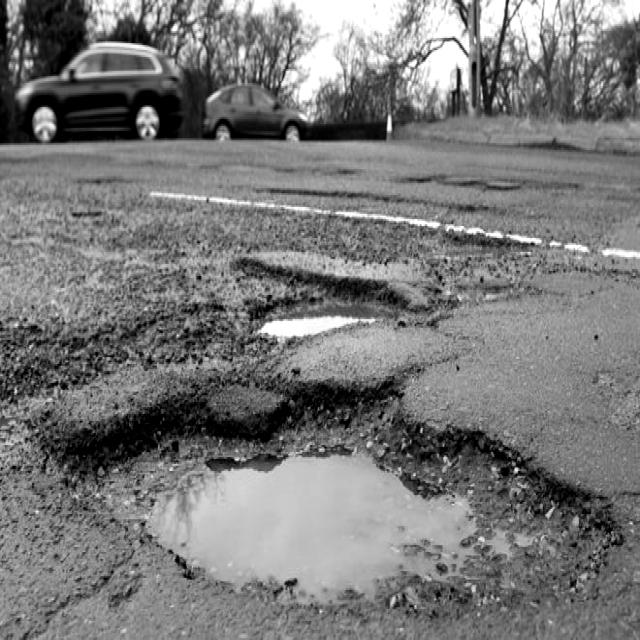pathole: (91, 398, 615, 637), (45, 398, 524, 510), (151, 454, 475, 599), (240, 251, 440, 310), (260, 305, 391, 341), (46, 338, 125, 385), (260, 318, 375, 339), (428, 223, 511, 246), (0, 322, 28, 379), (126, 349, 201, 365), (278, 307, 351, 319), (25, 334, 41, 370), (174, 318, 196, 344), (352, 306, 376, 317)
